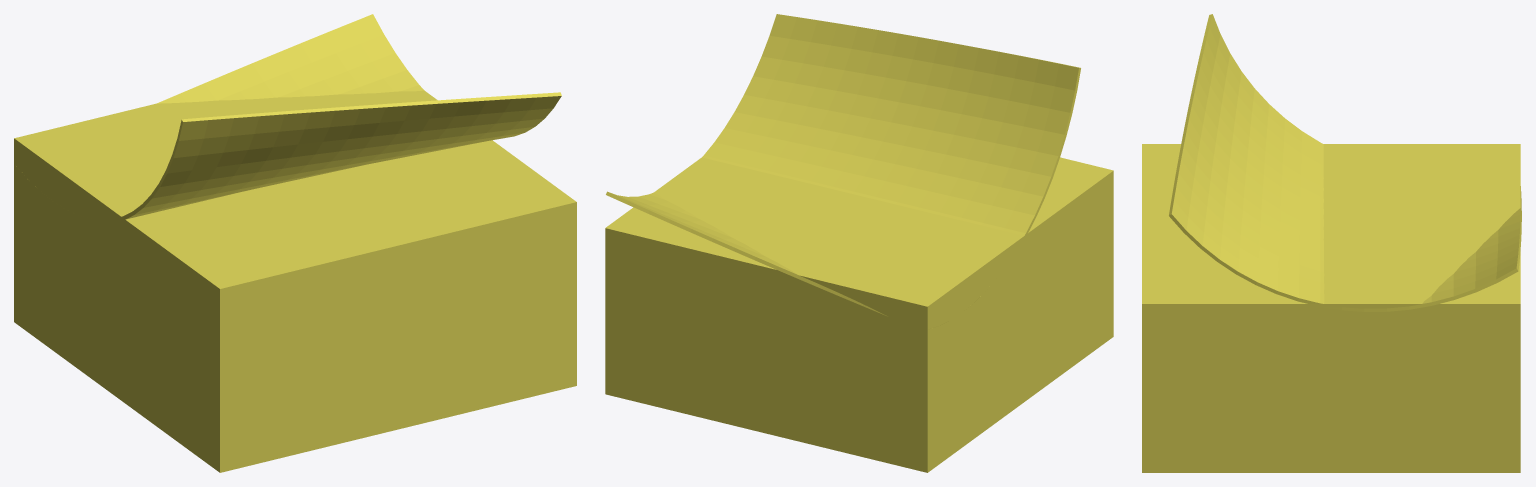
File: PostitBundle.fbx
3 renders of one model, left to right at view 1: azimuth 30°, elevation 25°; view 2: azimuth 150°, elevation 25°; view 3: azimuth 270°, elevation 25°, orthographic. The views are drawn at different scales.
Parts seen in each view (by area): view 1: Plane, Plane.002; view 2: Plane, Plane.002; view 3: Plane, Plane.002.
Part boxes in pixels (x1,y1,x2,y2): Plane: (14, 90, 576, 472); Plane.002: (16, 14, 561, 220); Plane: (605, 157, 1113, 472); Plane.002: (606, 14, 1080, 325); Plane: (1142, 144, 1520, 472); Plane.002: (1169, 14, 1521, 311).
Bounding box in the file's own units: 201 × 174 × 201.
